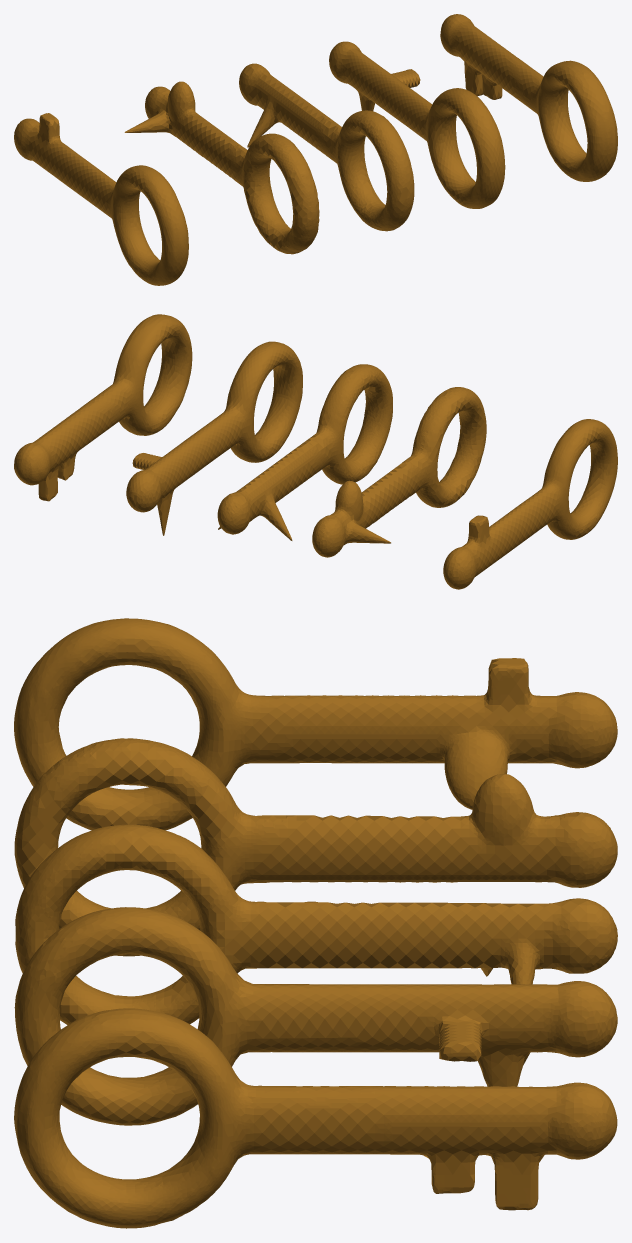
Rendered from LLaves.fbx.
3 renders of one model, top to bottom at view 1: azimuth 30°, elevation 25°; view 2: azimuth 150°, elevation 25°; view 3: azimuth 270°, elevation 25°, orthographic. The views are drawn at different scales.
Parts seen in each view (by area): view 1: Llave1, Llave2, Llave4, Llave3, Llave5; view 2: Llave1, Llave2, Llave4, Llave3, Llave5; view 3: Llave1, Llave5, Llave2, Llave4, Llave3.
Part boxes in pixels (x1,y1,x2,y2): Llave1: (440, 14, 617, 181); Llave2: (329, 41, 505, 208); Llave4: (124, 81, 319, 254); Llave3: (239, 63, 414, 231); Llave5: (14, 113, 188, 285); Llave1: (14, 314, 192, 501); Llave2: (126, 341, 302, 535); Llave4: (312, 387, 486, 557); Llave3: (217, 364, 392, 540); Llave5: (443, 419, 617, 589); Llave1: (14, 1008, 617, 1228); Llave5: (14, 618, 617, 830); Llave2: (14, 907, 617, 1125); Llave4: (14, 738, 617, 956); Llave3: (15, 824, 617, 1025).
Bounding box in the file's own units: 1056 × 258 × 646.
